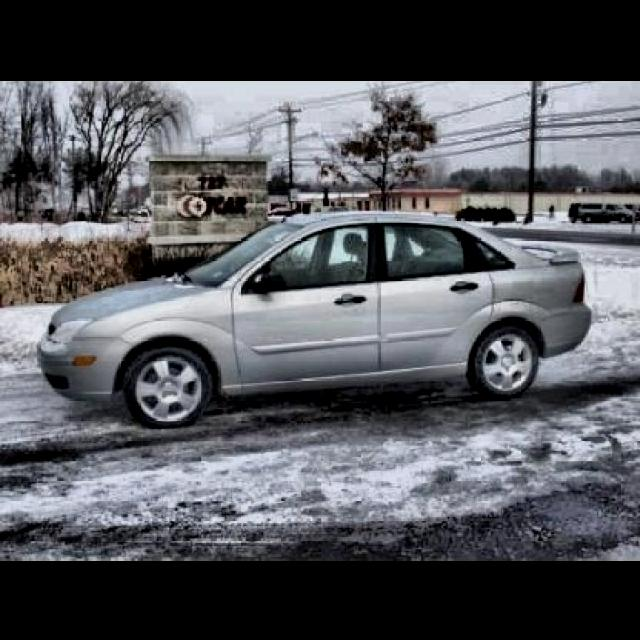silver: (39, 210, 592, 430)
